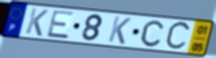8: (81, 13, 104, 42)
C: (163, 20, 193, 53), (140, 19, 165, 48)
E: (45, 9, 77, 40)
K: (107, 15, 133, 46), (24, 7, 50, 38)
